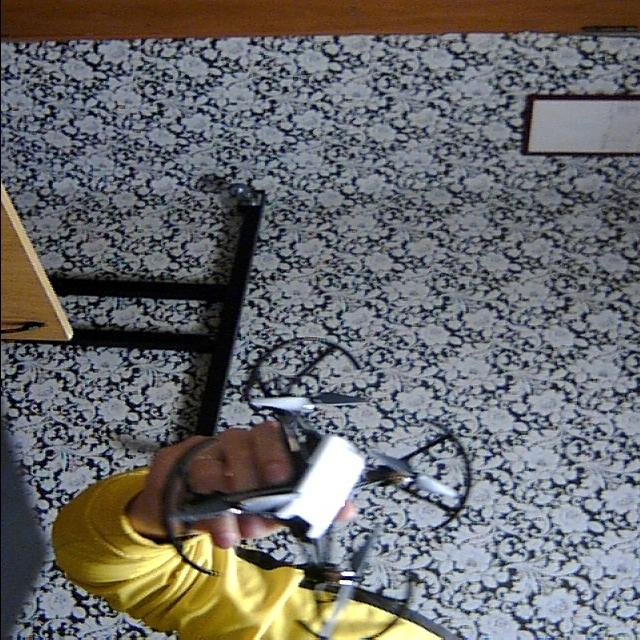drone: (160, 333, 491, 640)
